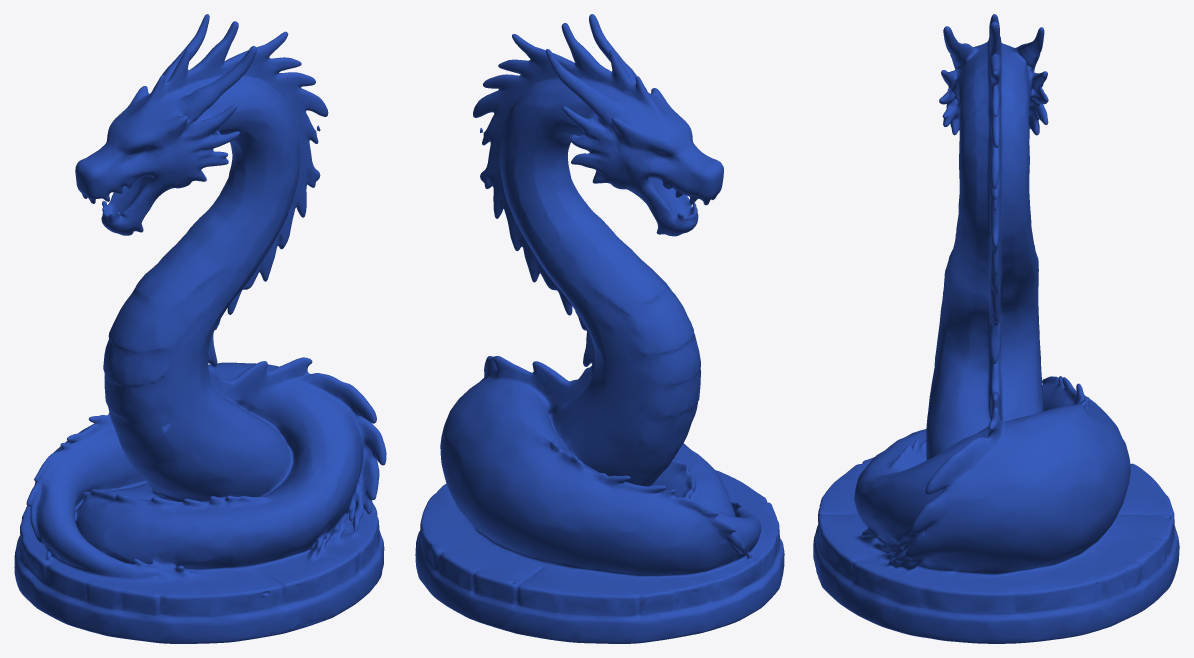
The model's file is serpent.glb.
3 views of the same model, side by side, from view 1: azimuth 30°, elevation 25°; view 2: azimuth 150°, elevation 25°; view 3: azimuth 270°, elevation 25° (orthographic). The views are drawn at different scales.
Visible parts, largest first — view 1: serpent - original generated mesh; view 2: serpent - original generated mesh; view 3: serpent - original generated mesh.
Boxes of the visible parts, left/top/right/bottom form: serpent - original generated mesh: left=14, top=14, right=386, bottom=643; serpent - original generated mesh: left=415, top=14, right=784, bottom=643; serpent - original generated mesh: left=813, top=14, right=1179, bottom=643.
Size of the model in its own units: 2.65 by 4.2 by 2.49.
